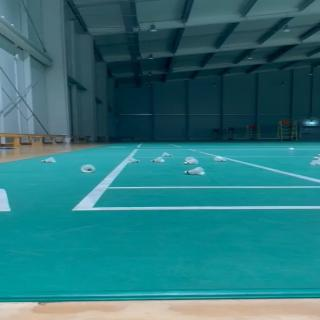Shuttle: (183, 167, 205, 175), (80, 164, 96, 173), (150, 156, 165, 163), (41, 157, 56, 163), (309, 157, 320, 165), (127, 157, 140, 163), (214, 156, 226, 162), (184, 159, 198, 164), (185, 156, 195, 162), (162, 152, 173, 157), (316, 154, 320, 162), (288, 147, 294, 151)
